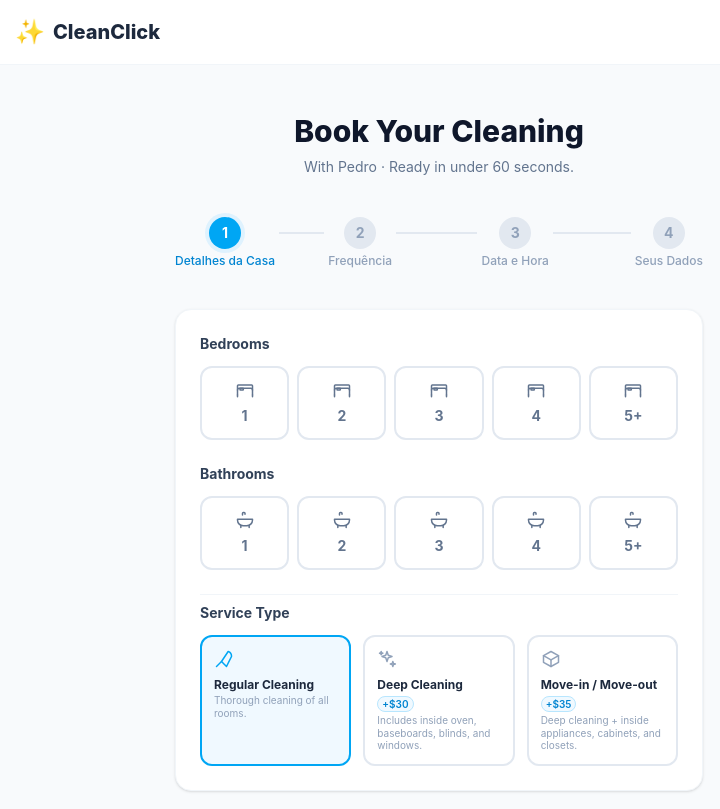
Test: Step 0 — House Details (Stitch similarity) › botão Continue está habilitado com bed+bath selecionados
The image size is (720, 809).
Step 1. Click the button "2" below "Bedrooms" → (342, 403), box [297,366,386,440]
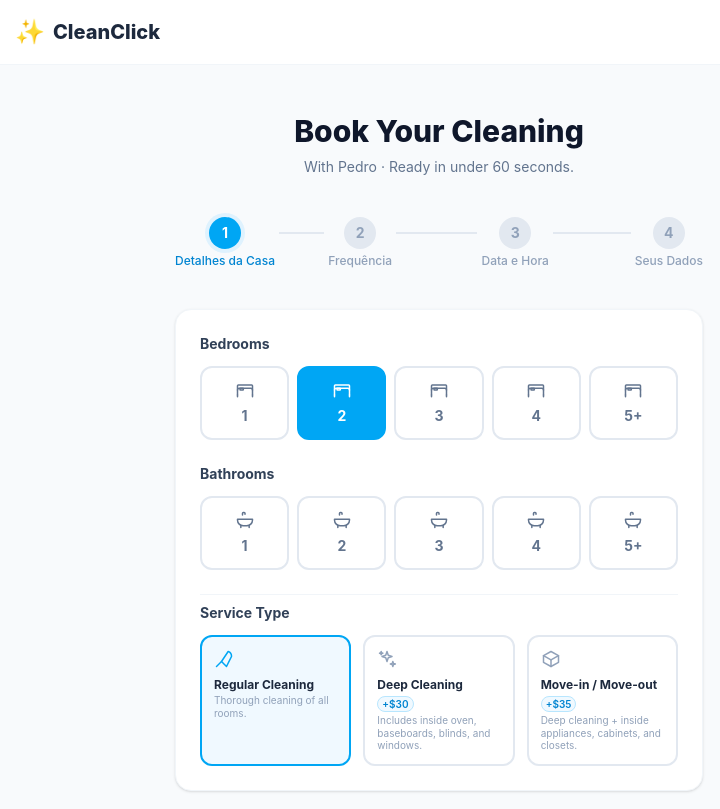
Step 2. Click the button "2" below "Bathrooms" → (342, 533), box [297,496,386,570]
(page scrolled)
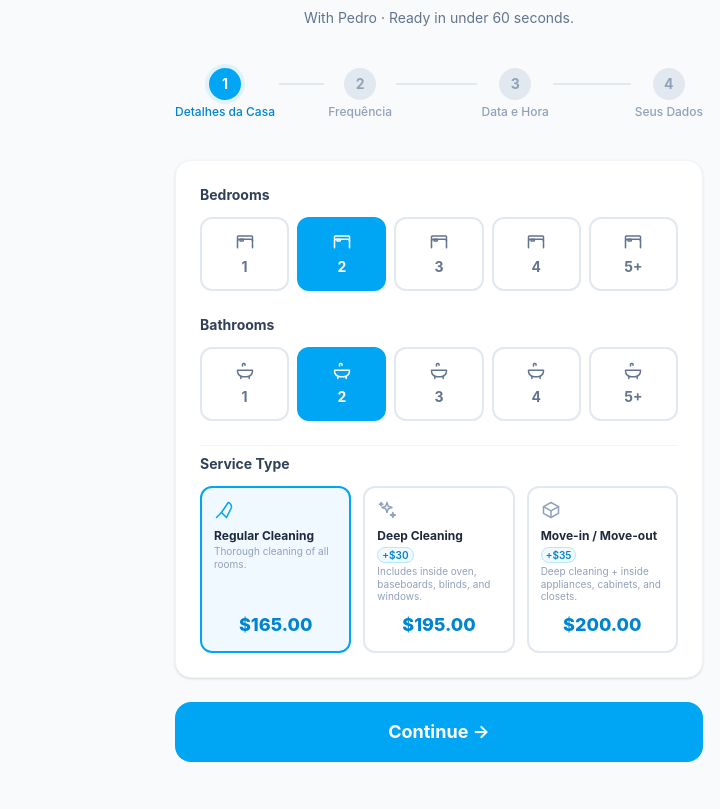
Expected: the button "Continue →" is enabled, [175,702,703,762]
